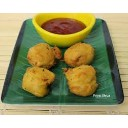bonda: (22, 67, 54, 97), (65, 67, 98, 96), (26, 42, 57, 65), (65, 41, 96, 64)
